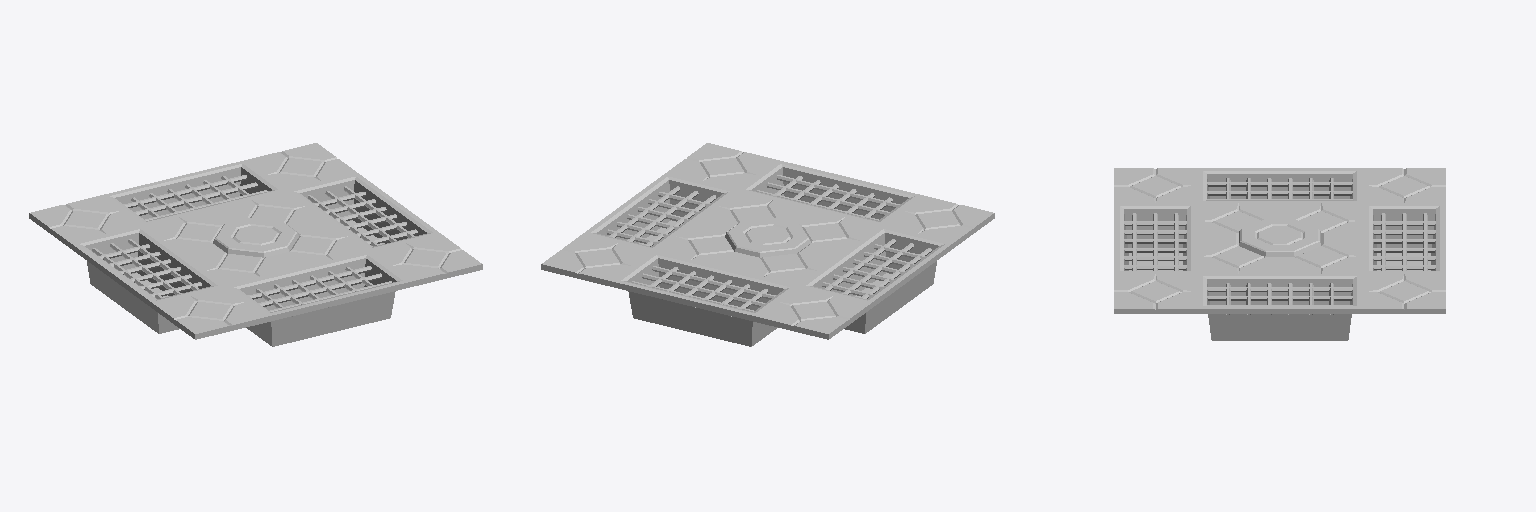
File: floor_tile_extralarge_grates.obj
3 views of the same model, side by side, from view 1: azimuth 30°, elevation 25°; view 2: azimuth 150°, elevation 25°; view 3: azimuth 270°, elevation 25° (orthographic).
Parts seen in each view (by area): view 1: floor_tile_extralarge_grates_Cube.15656; view 2: floor_tile_extralarge_grates_Cube.15656; view 3: floor_tile_extralarge_grates_Cube.15656.
Part boxes in pixels (x1,y1,x2,y2): floor_tile_extralarge_grates_Cube.15656: (29, 143, 482, 346); floor_tile_extralarge_grates_Cube.15656: (541, 143, 994, 346); floor_tile_extralarge_grates_Cube.15656: (1114, 168, 1445, 340).
Bounding box in the file's own units: 8 × 1.13 × 8.